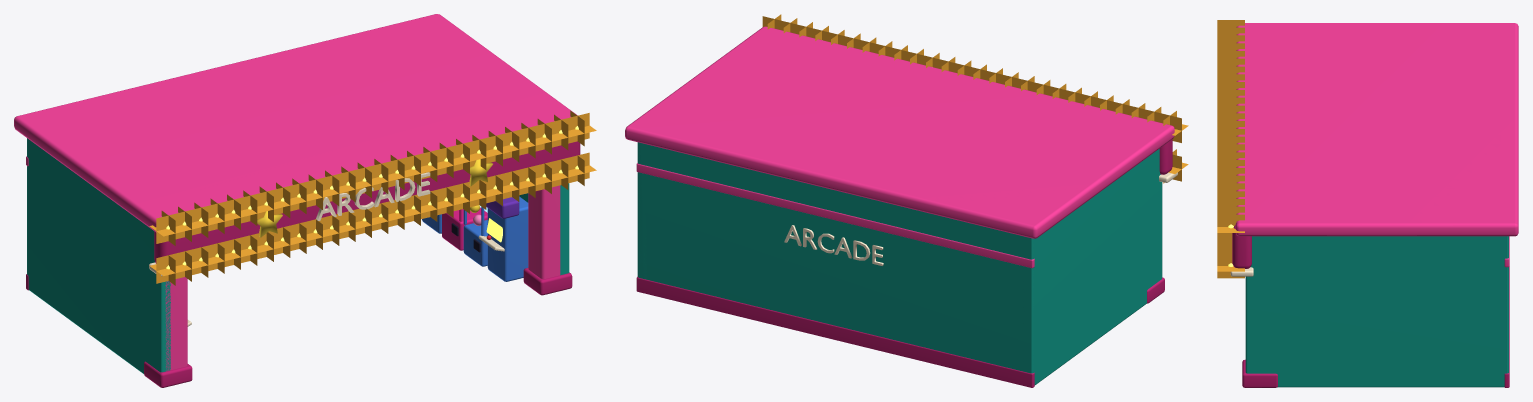
Rendered from arcade.glb.
3 views of the same model, side by side, from view 1: azimuth 30°, elevation 25°; view 2: azimuth 150°, elevation 25°; view 3: azimuth 270°, elevation 25° (orthographic). The views are drawn at different scales.
Parts seen in each view (by area): view 1: Arcade; view 2: Arcade; view 3: Arcade.
Part boxes in pixels (x1,y1,x2,y2): Arcade: [14, 14, 596, 387]; Arcade: [625, 14, 1188, 387]; Arcade: [1217, 20, 1518, 387].
Bounding box in the file's own units: 14.84 × 5.82 × 9.16.
